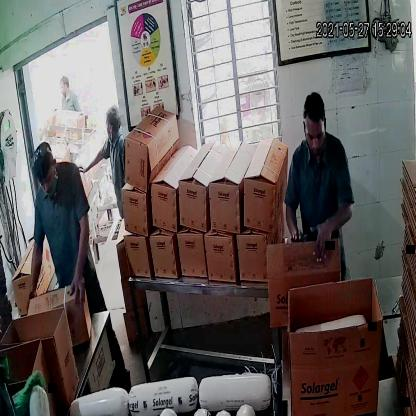no_goggles: (33, 164, 59, 192), (300, 123, 330, 146)
